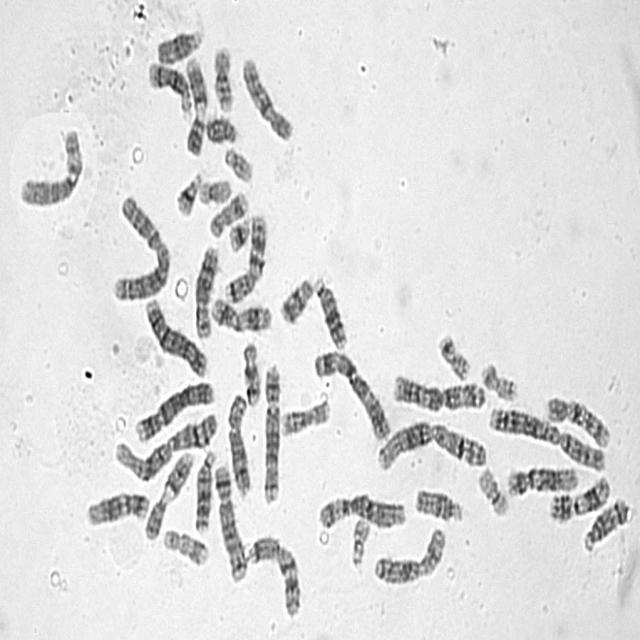A1: (111, 411, 225, 487), (374, 415, 488, 473)
A2: (485, 400, 608, 472), (108, 187, 172, 304)
A3: (308, 340, 392, 442), (389, 368, 486, 414)
B4: (141, 291, 210, 379), (132, 374, 216, 444)
B5: (211, 458, 249, 584), (259, 357, 283, 506)
C10: (237, 49, 295, 142), (543, 388, 612, 451)
C11: (546, 468, 613, 524), (208, 291, 274, 335)
C12: (504, 458, 581, 498), (82, 484, 152, 527)
C6: (15, 121, 85, 209), (314, 486, 408, 532)
C7: (244, 528, 303, 620), (220, 206, 270, 304)
C8: (221, 392, 254, 498), (191, 238, 222, 342)
C9: (141, 446, 197, 542), (182, 50, 209, 157)
D13: (310, 270, 349, 351), (191, 443, 218, 535)
D14: (144, 54, 194, 120), (580, 490, 630, 554)
D15: (154, 20, 206, 66), (412, 482, 464, 525)
E16: (277, 391, 332, 438), (209, 39, 236, 113)
E17: (206, 184, 251, 239), (160, 522, 211, 568)
E18: (276, 270, 315, 326), (238, 342, 262, 404)
F19: (475, 462, 511, 518), (194, 176, 234, 208)
F20: (477, 355, 520, 402), (435, 328, 472, 382)
G21: (172, 165, 204, 219), (225, 210, 253, 254)
G22: (220, 141, 255, 184), (348, 512, 372, 571)
X: (369, 520, 448, 588)
Y: (204, 114, 238, 144)
